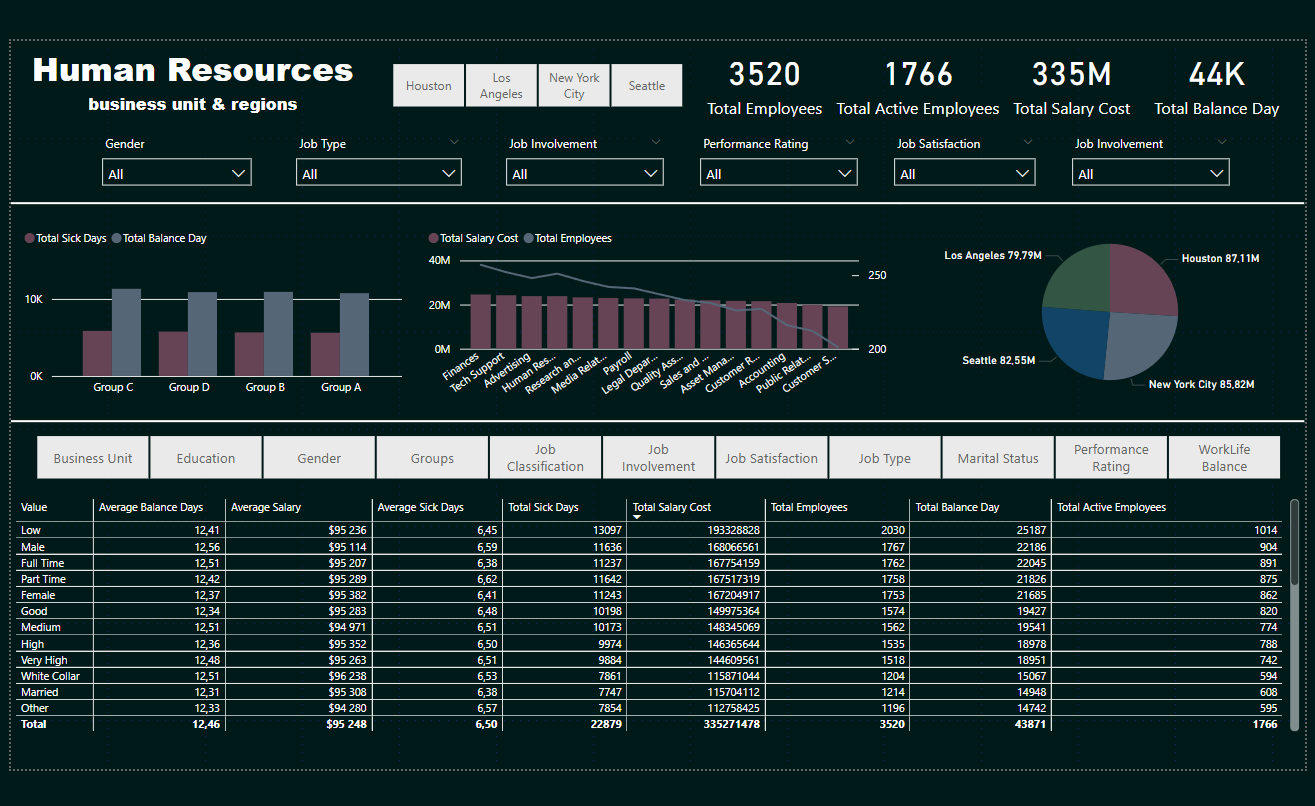

The dashboard page shown, as its layout file describes it:
{"tool":"powerbi","page":{"name":"business unit & regions","canvas":[1280,720],"ordinal":2},"visuals":[{"type":"textbox","box":[8,0,344,80],"z":0},{"type":"shape","box":[0,144,880,32],"z":1000},{"type":"shape","box":[0,360,1280,32],"z":2000},{"type":"shape","box":[880,144,400,32],"z":3000},{"type":"slicer","fields":{"Values":["Human Resources.Business Unit"]},"box":[352,16,336,56],"z":4000},{"type":"lineStackedColumnComboChart","fields":{"Category":["Human Resources.Departmets"],"Y2":["AllMeasures.Total Employees"],"Y":["AllMeasures.Total Salary Cost"]},"box":[408,176,464,184],"z":5000},{"type":"clusteredColumnChart","fields":{"Category":["Human Resources.Groups"],"Y":["AllMeasures.Total Sick Days","AllMeasures.Total Balance Day"]},"box":[8,176,384,184],"z":6000},{"type":"slicer","fields":{"Values":["Dims.Dimensions"]},"box":[0,384,1280,56],"z":7000},{"type":"pieChart","fields":{"Y":["AllMeasures.Total Salary Cost"],"Category":["Human Resources.Business Unit"]},"box":[896,176,384,184],"z":8000},{"type":"slicer","fields":{"Values":["Human Resources.Gender"]},"box":[80,88,168,56],"z":9000},{"type":"slicer","fields":{"Values":["Human Resources.Job Type"]},"box":[272,88,184,56],"z":10000},{"type":"slicer","fields":{"Values":["Human Resources.Job Involvement"]},"box":[480,88,176,56],"z":11000},{"type":"slicer","fields":{"Values":["Human Resources.Performance Rating"]},"box":[672,88,176,56],"z":12000},{"type":"slicer","fields":{"Values":["Human Resources.Job Satisfaction"]},"box":[864,88,160,56],"z":13000},{"type":"card","fields":{"Values":["AllMeasures.Total Active Employees"]},"box":[809.6,0,176,80],"z":14000},{"type":"card","fields":{"Values":["AllMeasures.Total Employees"]},"box":[681.6,0,128,80],"z":15000},{"type":"card","fields":{"Values":["AllMeasures.Total Salary Cost"]},"box":[985.6,0,128,80],"z":16000},{"type":"card","fields":{"Values":["AllMeasures.Total Balance Day"]},"box":[1121.6,0,144,80],"z":17000},{"type":"slicer","fields":{"Values":["Human Resources.Job Involvement"]},"box":[1040,88,176,56],"z":18000},{"type":"pivotTable","fields":{"Rows":["Dims.Value"],"Values":["AllMeasures.Average Balance Days","AllMeasures.Average Salary","AllMeasures.Average Sick Days","AllMeasures.Total Sick Days","AllMeasures.Total Salary Cost","AllMeasures.Total Employees","AllMeasures.Total Balance Day","AllMeasures.Total Active Employees"]},"box":[0,448,1280,240],"z":19000}]}

Visuals, with their boxes on the page's 1280x720 design canvas (x1, y1, x2, y2). These are canvas units, not pixel positions in the 1315x806 screenshot, which may show the page scaled, cropped or inside an application window:
textbox: <bbox>8, 0, 352, 80</bbox>
shape: <bbox>0, 144, 880, 176</bbox>
shape: <bbox>0, 360, 1280, 392</bbox>
shape: <bbox>880, 144, 1280, 176</bbox>
slicer - Human Resources.Business Unit: <bbox>352, 16, 688, 72</bbox>
lineStackedColumnComboChart - Human Resources.Departmets x AllMeasures.Total Employees: <bbox>408, 176, 872, 360</bbox>
clusteredColumnChart - Human Resources.Groups x AllMeasures.Total Sick Days: <bbox>8, 176, 392, 360</bbox>
slicer - Dims.Dimensions: <bbox>0, 384, 1280, 440</bbox>
pieChart - AllMeasures.Total Salary Cost x Human Resources.Business Unit: <bbox>896, 176, 1280, 360</bbox>
slicer - Human Resources.Gender: <bbox>80, 88, 248, 144</bbox>
slicer - Human Resources.Job Type: <bbox>272, 88, 456, 144</bbox>
slicer - Human Resources.Job Involvement: <bbox>480, 88, 656, 144</bbox>
slicer - Human Resources.Performance Rating: <bbox>672, 88, 848, 144</bbox>
slicer - Human Resources.Job Satisfaction: <bbox>864, 88, 1024, 144</bbox>
card - AllMeasures.Total Active Employees: <bbox>810, 0, 986, 80</bbox>
card - AllMeasures.Total Employees: <bbox>682, 0, 810, 80</bbox>
card - AllMeasures.Total Salary Cost: <bbox>986, 0, 1114, 80</bbox>
card - AllMeasures.Total Balance Day: <bbox>1122, 0, 1266, 80</bbox>
slicer - Human Resources.Job Involvement: <bbox>1040, 88, 1216, 144</bbox>
pivotTable - Dims.Value x AllMeasures.Average Balance Days: <bbox>0, 448, 1280, 688</bbox>
